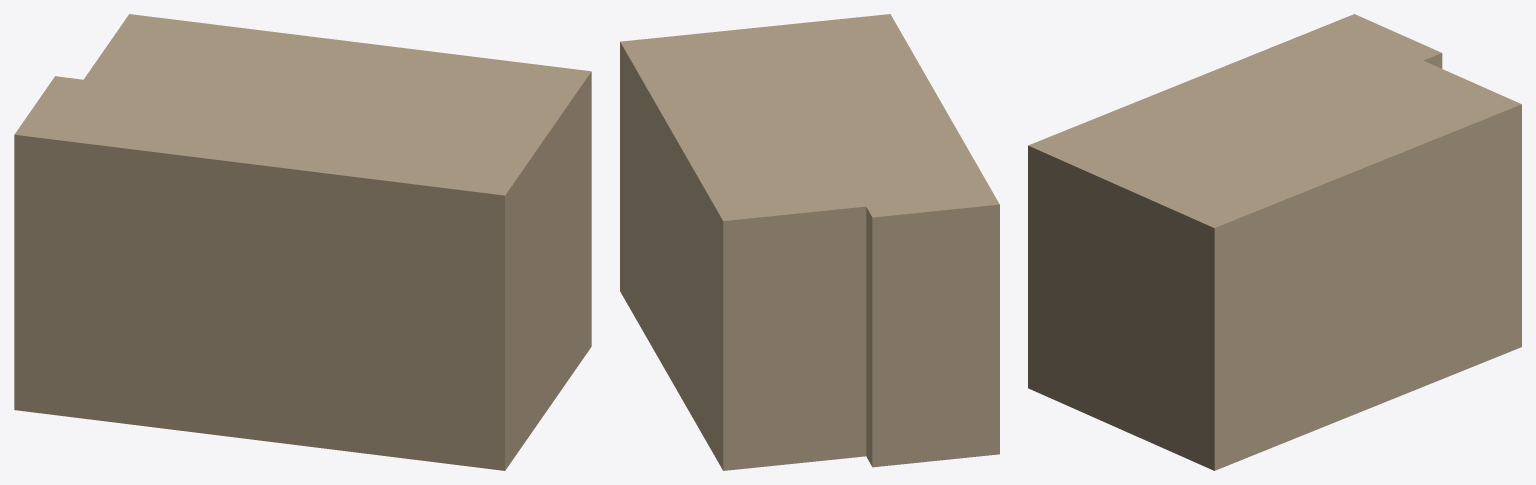
Rendered from bld_106306763.dae.
The picture shows the model from 3 angles, left to right: view 1: azimuth 30°, elevation 25°; view 2: azimuth 150°, elevation 25°; view 3: azimuth 270°, elevation 25°; orthographic projection. The views are drawn at different scales.
Visible parts, largest first — view 1: bld_106306763; view 2: bld_106306763; view 3: bld_106306763.
Part boxes in pixels (box(x1,y1,x2,y2)): bld_106306763: box(14, 14, 591, 470); bld_106306763: box(620, 14, 999, 470); bld_106306763: box(1028, 14, 1521, 470).
Bounding box in the file's own units: 15.14 × 14.75 × 8.
